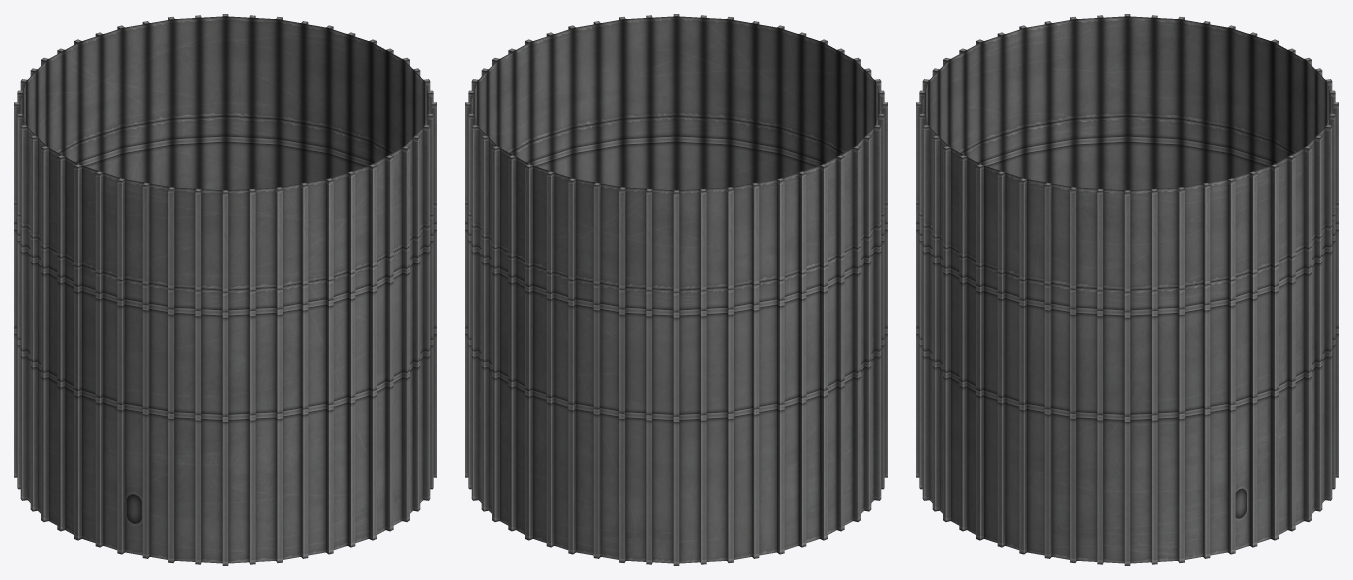
File: blue_streak_fuel_tank_s1p5_2.obj
3 views of the same model, side by side, from view 1: azimuth 30°, elevation 25°; view 2: azimuth 150°, elevation 25°; view 3: azimuth 270°, elevation 25° (orthographic).
Parts seen in each view (by area): view 1: mesh2; view 2: mesh2; view 3: mesh2.
Part boxes in pixels (x1,y1,x2,y2): mesh2: [14, 14, 436, 565]; mesh2: [465, 14, 887, 565]; mesh2: [916, 14, 1338, 565].
Size of the model in its own units: 1.92 by 1.88 by 1.92.
